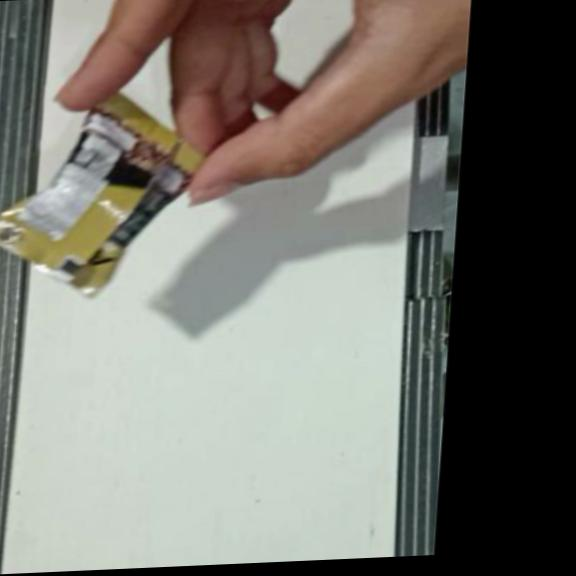Plastik: (0, 88, 207, 301)
